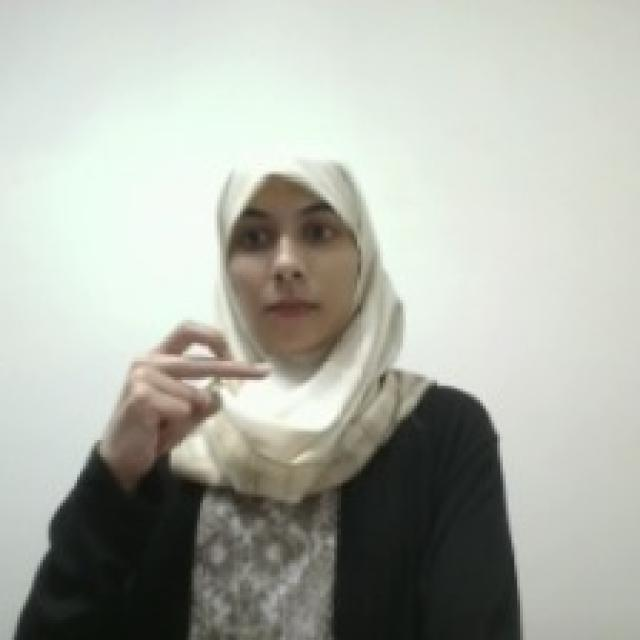sunday: (98, 311, 278, 480)
